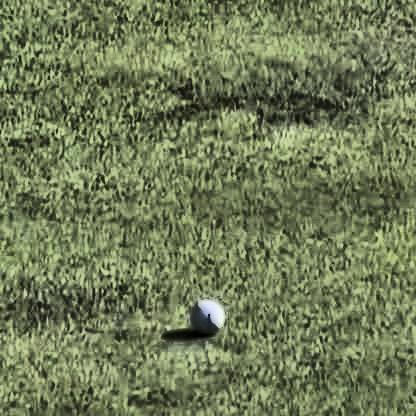golfball: (191, 297, 222, 330)
